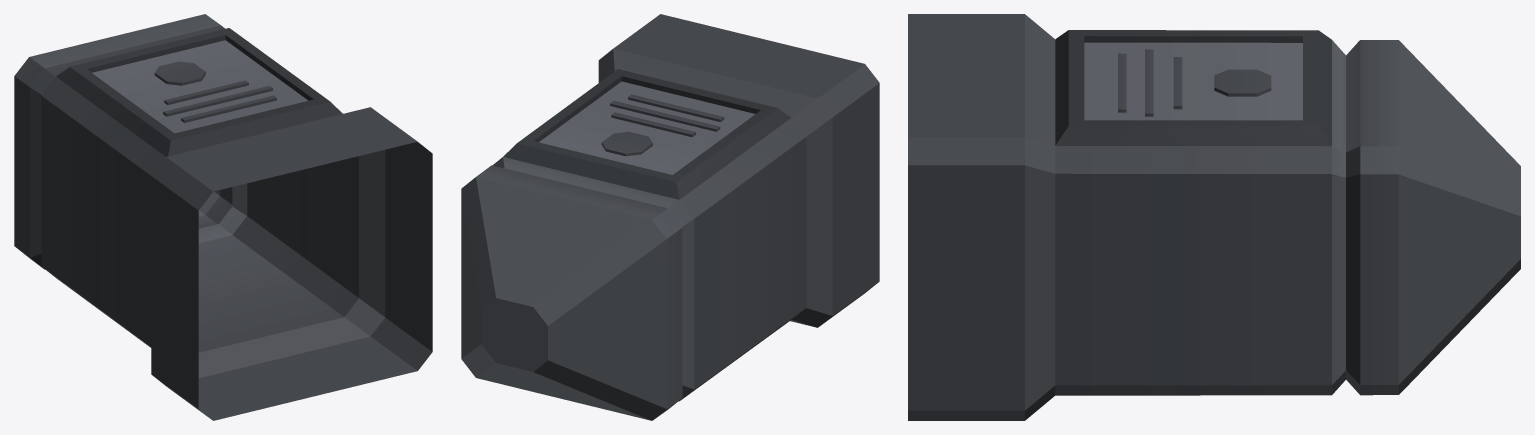
The model's file is Tombstone 01.FBX.
3 renders of one model, left to right at view 1: azimuth 30°, elevation 25°; view 2: azimuth 150°, elevation 25°; view 3: azimuth 270°, elevation 25°, orthographic. The views are drawn at different scales.
Visible parts, largest first — view 1: Tombstone 01; view 2: Tombstone 01; view 3: Tombstone 01.
Boxes of the visible parts, <box> form: Tombstone 01: <box>14,14,432,420</box>; Tombstone 01: <box>461,14,879,420</box>; Tombstone 01: <box>908,14,1520,420</box>.
Bounding box in the file's own units: 52.71 × 49.39 × 96.74.
